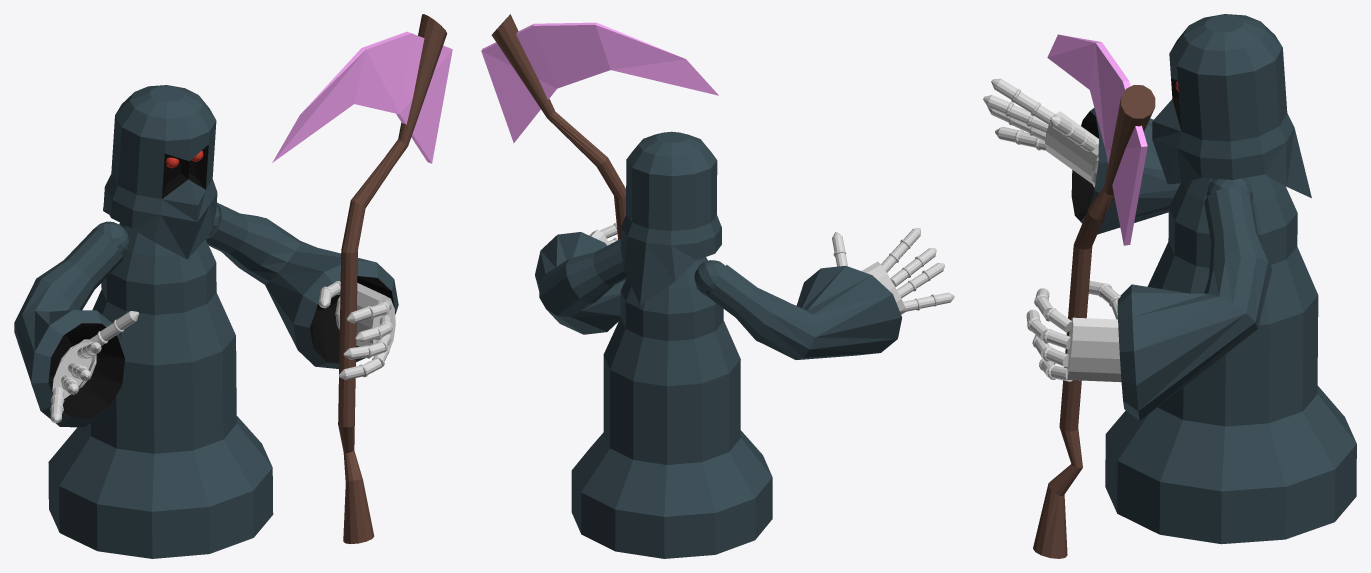
3 views of the same model, side by side, from view 1: azimuth 30°, elevation 25°; view 2: azimuth 150°, elevation 25°; view 3: azimuth 270°, elevation 25° (orthographic). The views are drawn at different scales.
Parts seen in each view (by area): view 1: node_MeshObject765071040-PolyPaper17, node_MeshObject1802511168-PolyPaper21, node_MeshObject1283791104-PolyGem25; view 2: node_MeshObject765071040-PolyPaper17, node_MeshObject1802511168-PolyPaper21, node_MeshObject1283791104-PolyGem25; view 3: node_MeshObject765071040-PolyPaper17, node_MeshObject1802511168-PolyPaper21, node_MeshObject1283791104-PolyGem25.
Part boxes in pixels (x1,y1,x2,y2): node_MeshObject765071040-PolyPaper17: (48, 14, 447, 558); node_MeshObject1802511168-PolyPaper21: (14, 151, 203, 427); node_MeshObject1283791104-PolyGem25: (272, 31, 452, 163); node_MeshObject765071040-PolyPaper17: (491, 14, 905, 558); node_MeshObject1802511168-PolyPaper21: (694, 227, 954, 359); node_MeshObject1283791104-PolyGem25: (481, 22, 718, 143); node_MeshObject765071040-PolyPaper17: (1026, 14, 1356, 558); node_MeshObject1802511168-PolyPaper21: (983, 78, 1180, 234); node_MeshObject1283791104-PolyGem25: (1047, 34, 1147, 245).
Size of the model in its own units: 1.11 by 1.08 by 0.6908.
